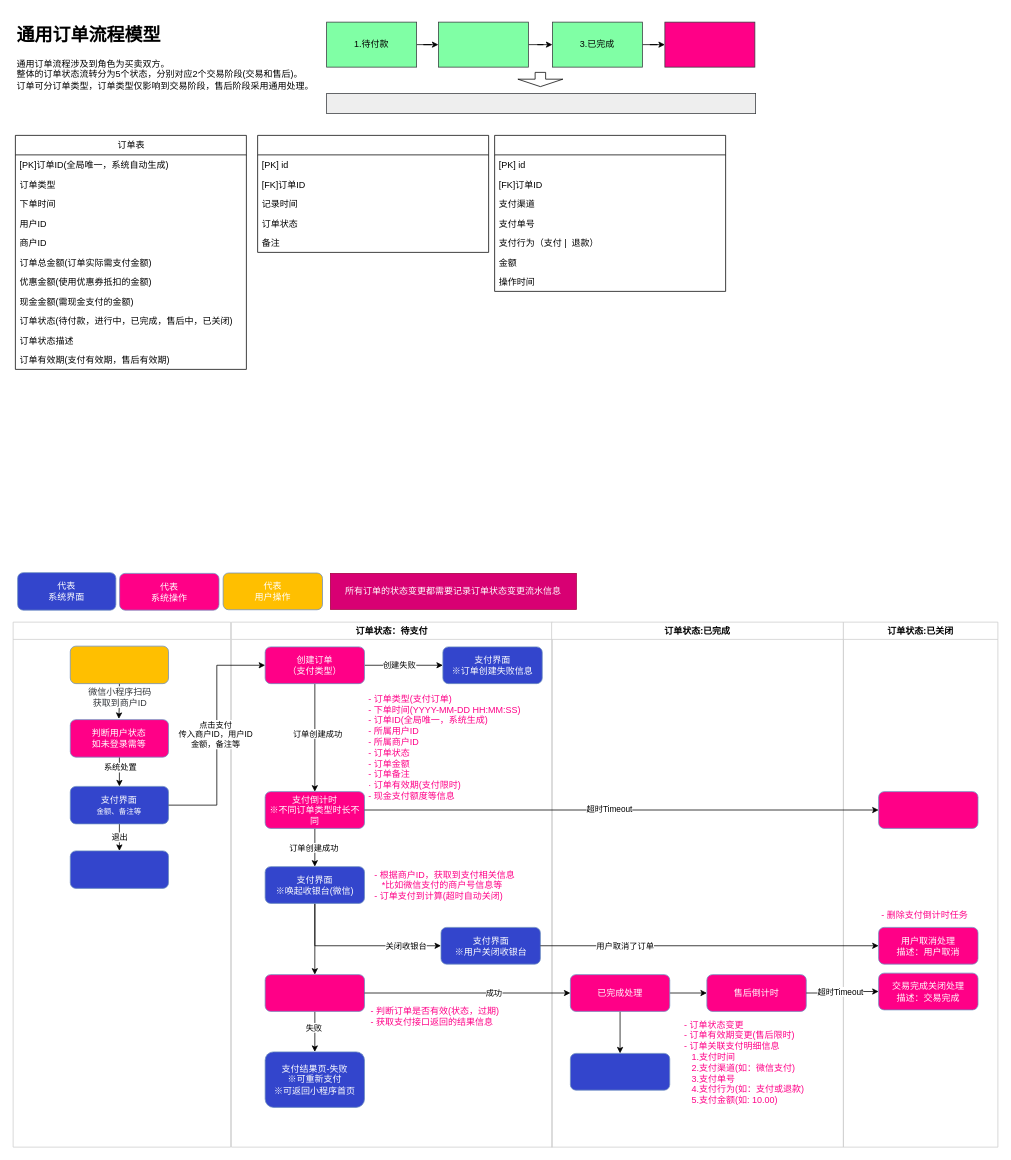
The diagram is 1011 pixels wide and 1160 high, and some of its shapes have lost their labels. The box of each missing label's shape, as (x1, y1, x2, y2) in pixels:
2.进行中: (438, 21, 528, 67)
4.售后中: (664, 21, 755, 67)
5.已关闭: (326, 93, 756, 114)
买方扫码商户码: (70, 645, 169, 684)
小程序首页 ※或其他业务界面: (70, 850, 169, 888)
支付处理 调用三方支付接口 (微信): (264, 974, 364, 1011)
支付结果页-成功 ※可返回小程序首页: (570, 1053, 670, 1090)
支付超时处理 描述：支付超时: (878, 791, 978, 828)
用户扫码：微信小程序支付: (12, 621, 231, 1147)
订单状态记录表: (257, 135, 489, 252)
订单现金流水记录表: (494, 135, 726, 291)
